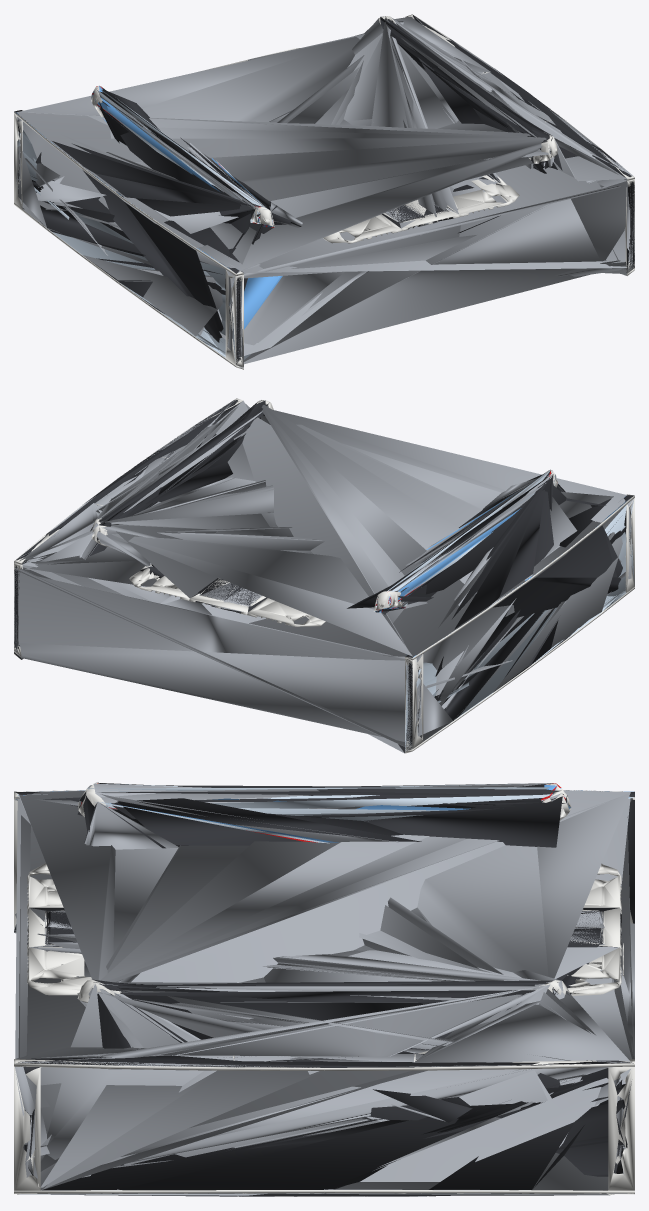
The model's file is simp03_body.dae.
The picture shows the model from 3 angles, top to bottom: view 1: azimuth 30°, elevation 25°; view 2: azimuth 150°, elevation 25°; view 3: azimuth 270°, elevation 25°; orthographic projection. The views are drawn at different scales.
Parts seen in each view (by area): view 1: node2, node1, node0, node3, node4; view 2: node2, node1, node0, node3, node4; view 3: node2, node1, node0, node3, node4.
Part boxes in pixels (<box>): node2: <box>16,16,634,367</box>; node1: <box>14,15,634,367</box>; node0: <box>14,14,634,369</box>; node3: <box>15,89,273,367</box>; node4: <box>15,86,282,329</box>; node2: <box>14,399,634,753</box>; node1: <box>14,399,634,752</box>; node0: <box>14,398,634,753</box>; node3: <box>376,470,634,751</box>; node4: <box>375,494,630,657</box>; node2: <box>14,783,634,1196</box>; node1: <box>14,782,634,1196</box>; node0: <box>14,782,634,1196</box>; node3: <box>14,783,633,930</box>; node4: <box>16,784,633,842</box>.
Size of the model in its own units: 1 by 0.9335 by 0.3309.
